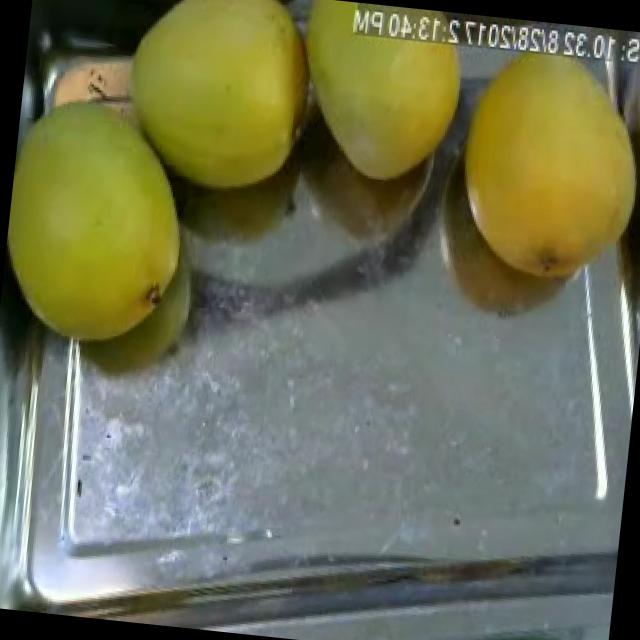fruit: (0, 67, 213, 365), (426, 35, 640, 309), (87, 0, 345, 225), (267, 0, 484, 208)
